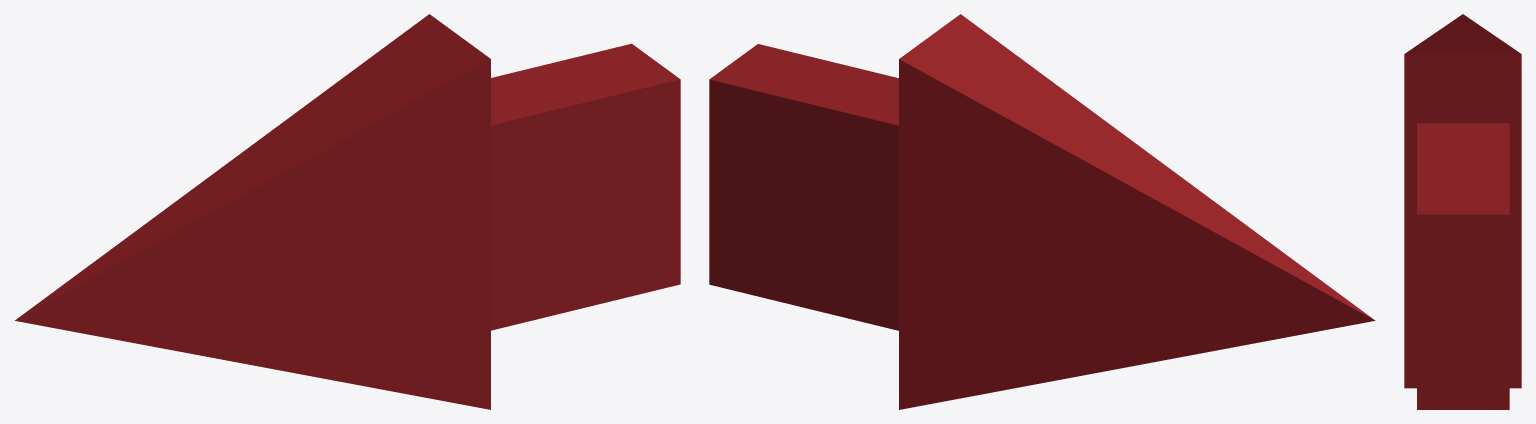
File: Arrow.fbx
3 views of the same model, side by side, from view 1: azimuth 30°, elevation 25°; view 2: azimuth 150°, elevation 25°; view 3: azimuth 270°, elevation 25° (orthographic). The views are drawn at different scales.
Parts seen in each view (by area): view 1: node_id84, root; view 2: node_id84, root; view 3: root, node_id84.
Part boxes in pixels (x1,y1,x2,y2): node_id84: [15, 14, 490, 409]; root: [491, 43, 680, 330]; node_id84: [899, 14, 1375, 409]; root: [709, 44, 898, 330]; root: [1417, 123, 1509, 409]; node_id84: [1404, 14, 1521, 388].
Bounding box in the file's own units: 0.6548 × 0.3421 × 0.1088.
2 materials, 2 textured.
